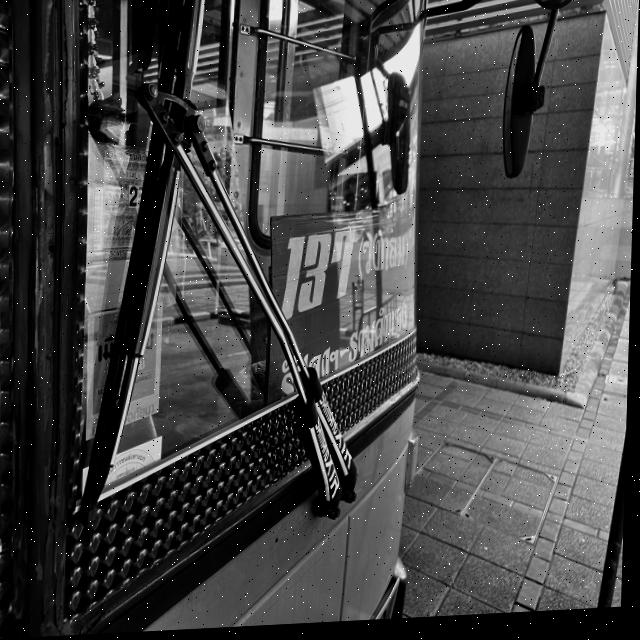BMTA-bus: (0, 0, 441, 640)
Destination Sign: (270, 207, 417, 407)
